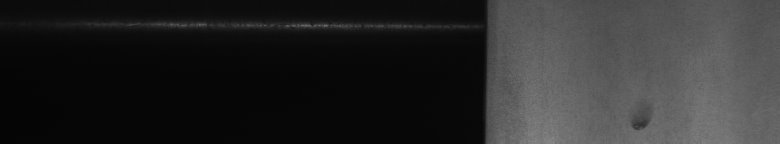fi: (628, 112, 656, 136)
